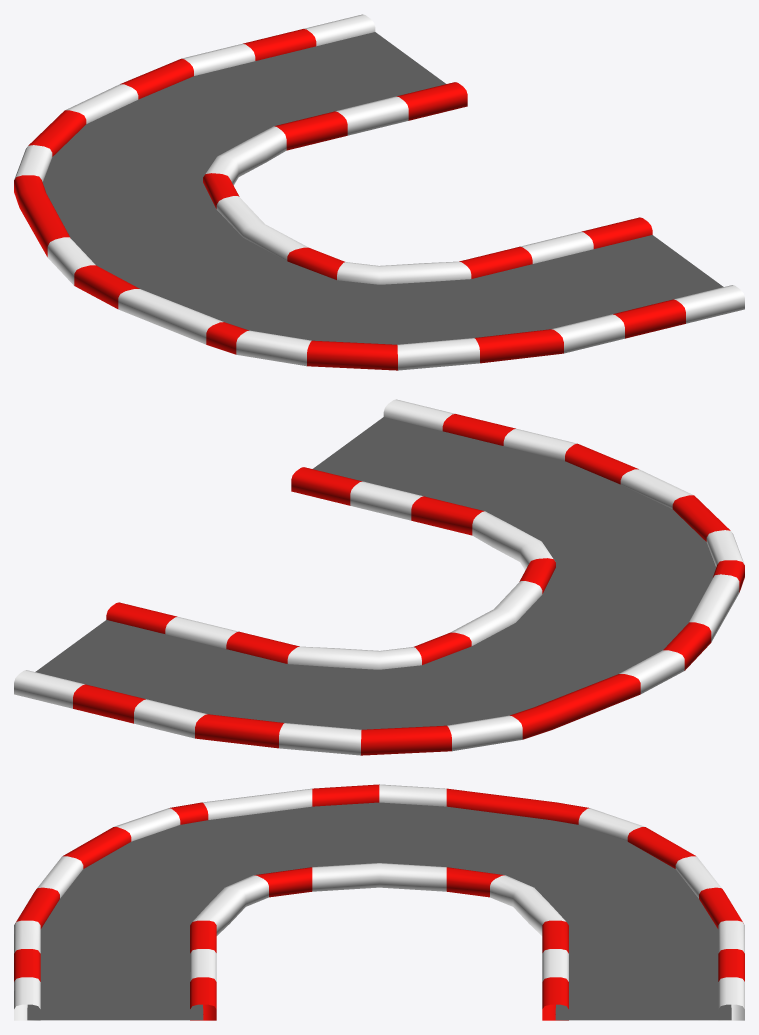
File: C_CurvedTrack01.fbx
3 views of the same model, one above another, from view 1: azimuth 30°, elevation 25°; view 2: azimuth 150°, elevation 25°; view 3: azimuth 270°, elevation 25° (orthographic). The views are drawn at different scales.
Parts seen in each view (by area): view 1: C_CurvedTrack01; view 2: C_CurvedTrack01; view 3: C_CurvedTrack01.
Boxes of the visible parts, bbox=[...] form: C_CurvedTrack01: bbox=[14, 14, 744, 370]; C_CurvedTrack01: bbox=[14, 399, 744, 755]; C_CurvedTrack01: bbox=[14, 784, 744, 1020].
Size of the model in its own units: 5386 by 178 by 7472.
